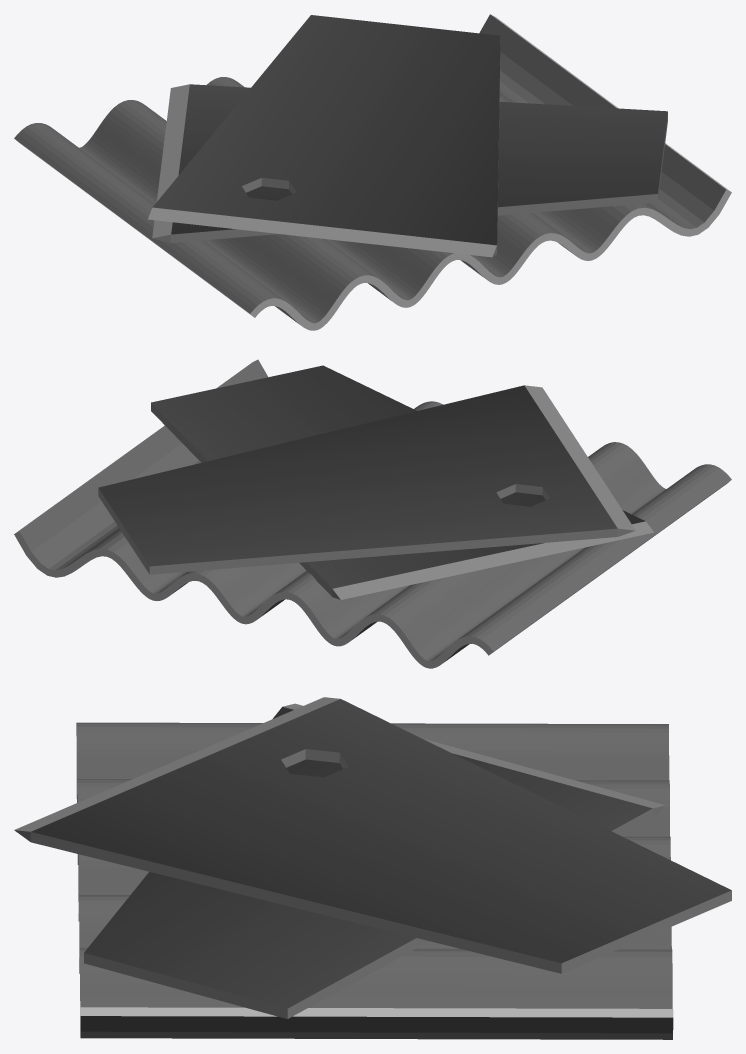
Rendered from SM_Int_Sheet.fbx.
The picture shows the model from 3 angles, top to bottom: view 1: azimuth 30°, elevation 25°; view 2: azimuth 150°, elevation 25°; view 3: azimuth 270°, elevation 25°; orthographic projection. The views are drawn at different scales.
Visible parts, largest first — view 1: Cube; view 2: Cube; view 3: Cube.
Boxes of the visible parts, x1=… form: Cube: x1=14, y1=14, x2=731, y2=330; Cube: x1=14, y1=359, x2=731, y2=668; Cube: x1=14, y1=697, x2=731, y2=1039.
Size of the model in its own units: 0.409 by 0.0451 by 0.3998.
Materials: 1 (1 with a texture image).
